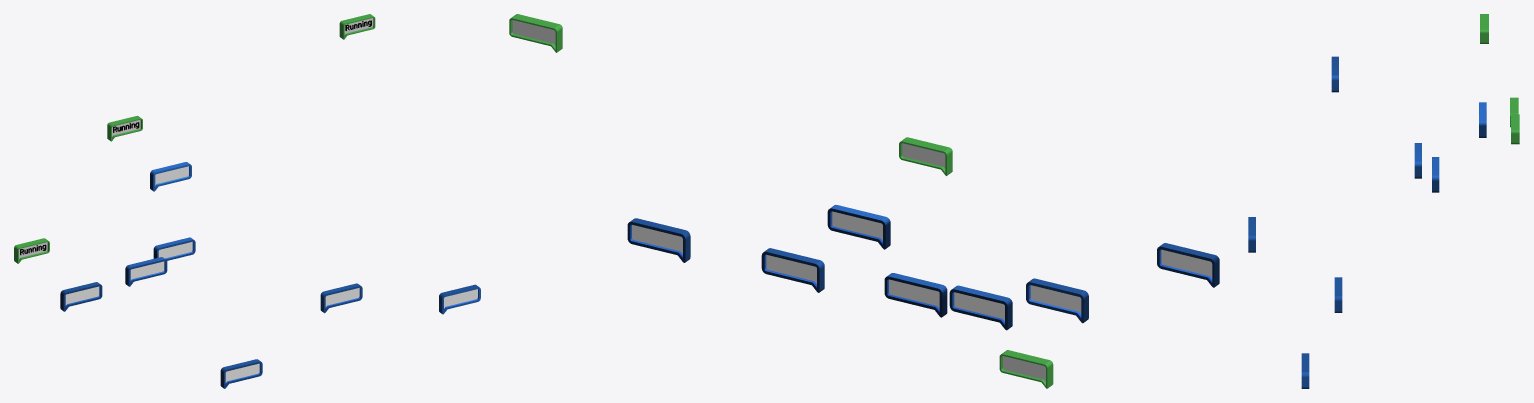
File: pop_up_development.glb
The picture shows the model from 3 angles, left to right: view 1: azimuth 30°, elevation 25°; view 2: azimuth 150°, elevation 25°; view 3: azimuth 270°, elevation 25°; orthographic projection. The views are drawn at different scales.
Parts seen in each view (by area): view 1: pop_up_running, pop_up_games, pop_up_share_knowledge, pop_up_contact_me, pop_up_development, pop_up_photography_left, pop_up_stereoscopy, pop_up_running.009, pop_up_running.003, pop_up_running.005; view 2: pop_up_stereoscopy, pop_up_photography_left, pop_up_share_knowledge, pop_up_contact_me, pop_up_development, pop_up_running, pop_up_games, pop_up_running.003, pop_up_running.005, pop_up_running.009; view 3: pop_up_share_knowledge, pop_up_photography_left, pop_up_games, pop_up_running, pop_up_contact_me, pop_up_stereoscopy, pop_up_development, pop_up_running.009, pop_up_running.005.
Boxes of the visible parts, x1=… form: pop_up_running: x1=220, y1=359, x2=262, y2=388; pop_up_games: x1=60, y1=282, x2=102, y2=311; pop_up_share_knowledge: x1=320, y1=283, x2=362, y2=313; pop_up_contact_me: x1=125, y1=257, x2=167, y2=286; pop_up_development: x1=150, y1=162, x2=191, y2=191; pop_up_photography_left: x1=439, y1=284, x2=480, y2=314; pop_up_stereoscopy: x1=153, y1=237, x2=195, y2=260; pop_up_running.009: x1=339, y1=14, x2=375, y2=39; pop_up_running.003: x1=14, y1=238, x2=49, y2=263; pop_up_running.005: x1=107, y1=115, x2=142, y2=141; pop_up_stereoscopy: x1=884, y1=273, x2=947, y2=317; pop_up_photography_left: x1=627, y1=218, x2=690, y2=262; pop_up_share_knowledge: x1=761, y1=248, x2=824, y2=292; pop_up_contact_me: x1=949, y1=285, x2=1012, y2=330; pop_up_development: x1=827, y1=205, x2=890, y2=249; pop_up_running: x1=1026, y1=278, x2=1088, y2=323; pop_up_games: x1=1157, y1=243, x2=1219, y2=287; pop_up_running.003: x1=999, y1=350, x2=1053, y2=388; pop_up_running.005: x1=899, y1=137, x2=952, y2=175; pop_up_running.009: x1=509, y1=14, x2=562, y2=52; pop_up_share_knowledge: x1=1334, y1=277, x2=1342, y2=312; pop_up_photography_left: x1=1301, y1=353, x2=1309, y2=388; pop_up_games: x1=1331, y1=56, x2=1338, y2=92; pop_up_running: x1=1248, y1=217, x2=1255, y2=252; pop_up_contact_me: x1=1414, y1=143, x2=1421, y2=178; pop_up_stereoscopy: x1=1432, y1=157, x2=1439, y2=192; pop_up_development: x1=1479, y1=102, x2=1486, y2=137; pop_up_running.009: x1=1511, y1=114, x2=1519, y2=144; pop_up_running.005: x1=1480, y1=14, x2=1488, y2=43.
Bounding box in the file's own units: 33.82 × 18.01 × 17.28.
Materials: 10 (7 with a texture image).
